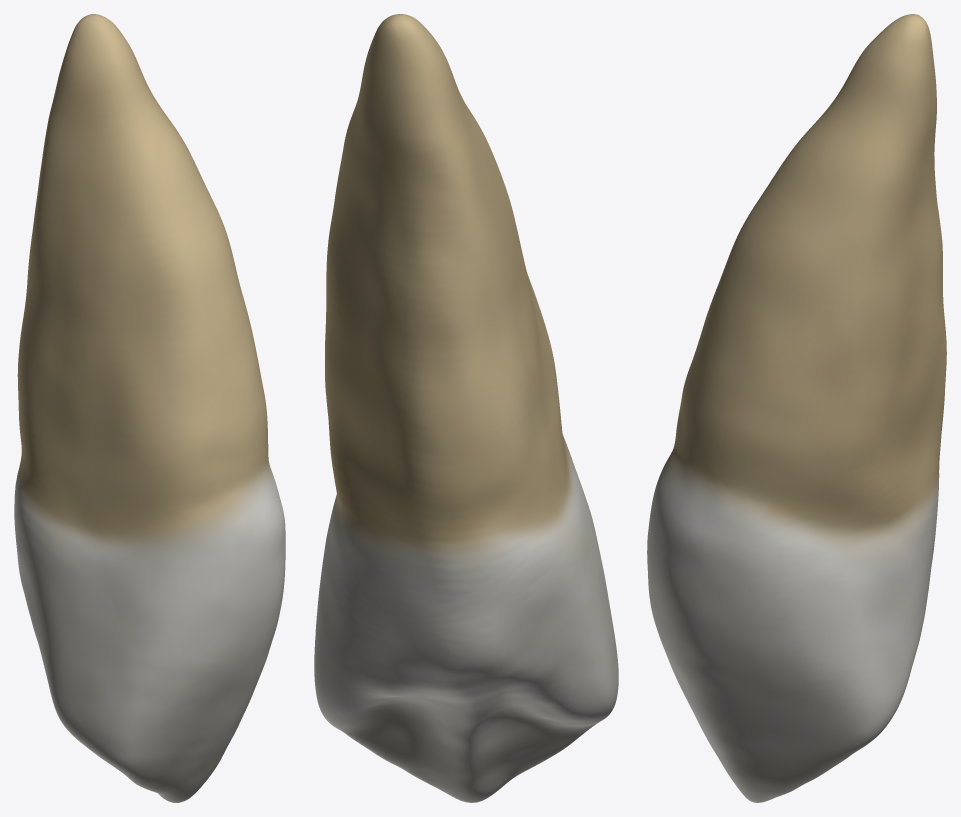
The model's file is maxillary_canine.glb.
The picture shows the model from 3 angles, left to right: view 1: azimuth 30°, elevation 25°; view 2: azimuth 150°, elevation 25°; view 3: azimuth 270°, elevation 25°; orthographic projection. The views are drawn at different scales.
Parts seen in each view (by area): view 1: Object_2; view 2: Object_2; view 3: Object_2.
Part boxes in pixels (bbox=[...]): Object_2: bbox=[14, 14, 285, 802]; Object_2: bbox=[314, 14, 618, 802]; Object_2: bbox=[647, 14, 946, 802].
Bounding box in the file's own units: 0.2799 × 0.9093 × 0.317.
1 material, 1 textured.
